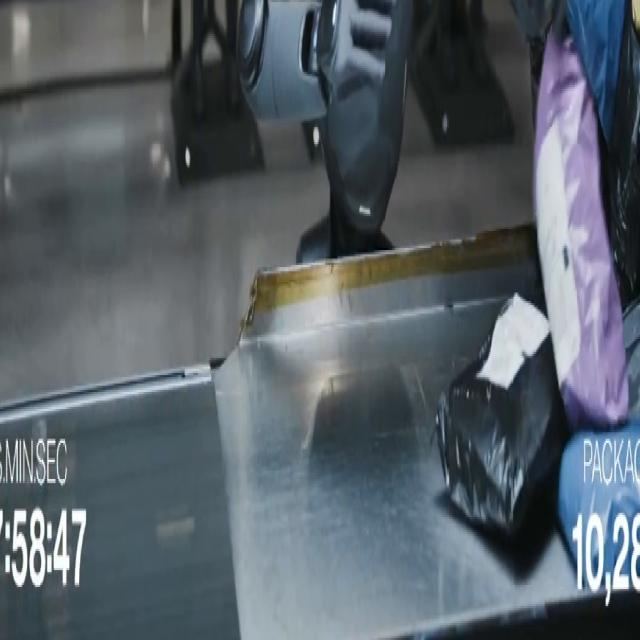package: (534, 39, 628, 428), (436, 295, 567, 538), (558, 422, 639, 591), (565, 0, 630, 144), (609, 3, 639, 309), (623, 299, 639, 421)
